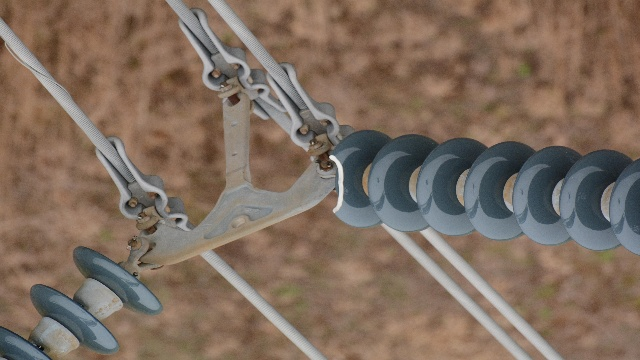broken_local: (325, 152, 345, 215)
insulator_unspecified: (327, 128, 639, 258), (2, 248, 162, 359)
